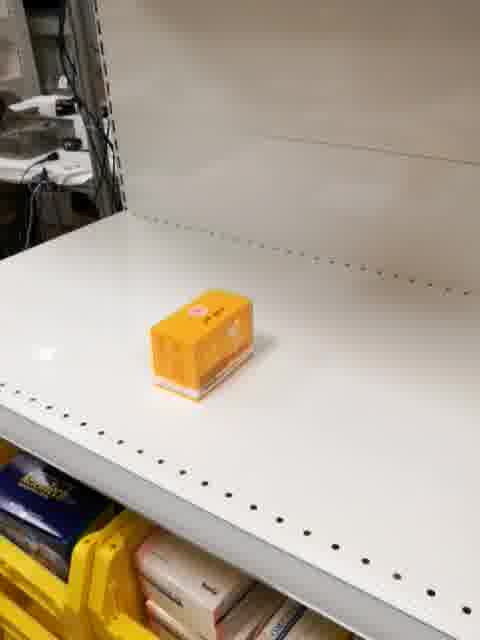jasminetea: (150, 287, 254, 404)
